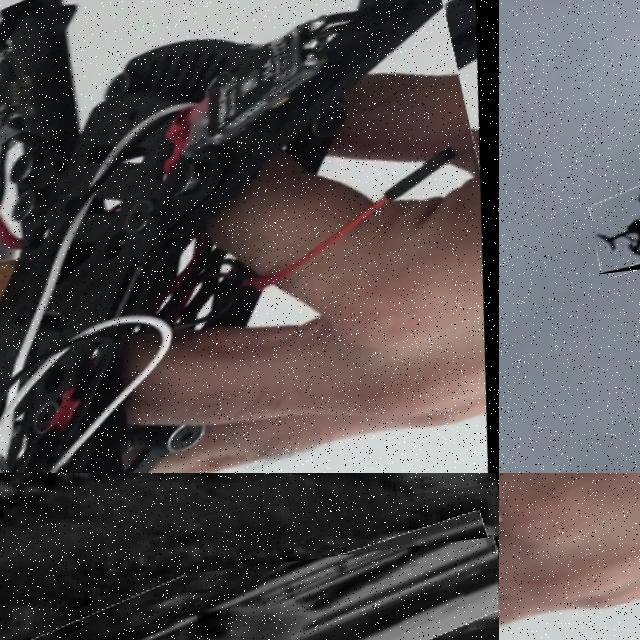drone: (0, 0, 499, 473), (0, 534, 499, 640), (499, 473, 640, 640), (589, 176, 640, 274)
